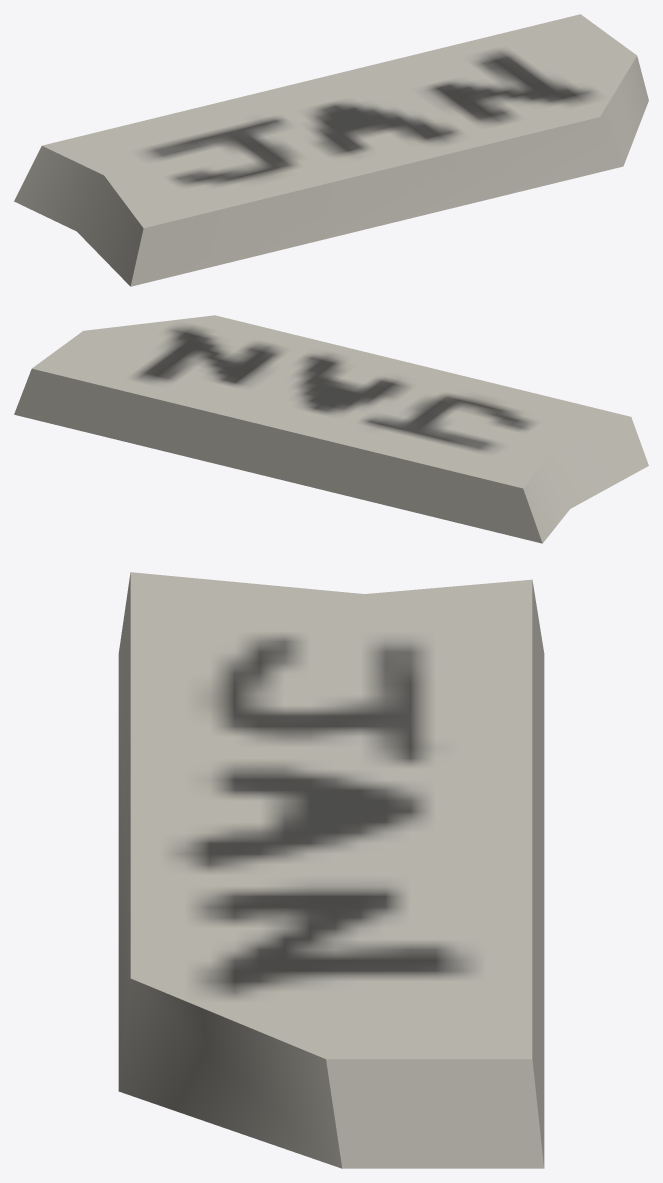
Rendered from SM_Sign_Label_03.fbx.
The picture shows the model from 3 angles, top to bottom: view 1: azimuth 30°, elevation 25°; view 2: azimuth 150°, elevation 25°; view 3: azimuth 270°, elevation 25°; orthographic projection. The views are drawn at different scales.
Visible parts, largest first — view 1: SM_Sign_Label_03; view 2: SM_Sign_Label_03; view 3: SM_Sign_Label_03.
Boxes of the visible parts, x1,y1,x2,y2 form: SM_Sign_Label_03: [14, 14, 648, 286]; SM_Sign_Label_03: [14, 315, 648, 543]; SM_Sign_Label_03: [118, 572, 544, 1168].
Size of the model in its own units: 12.67 by 1.09 by 4.41.
